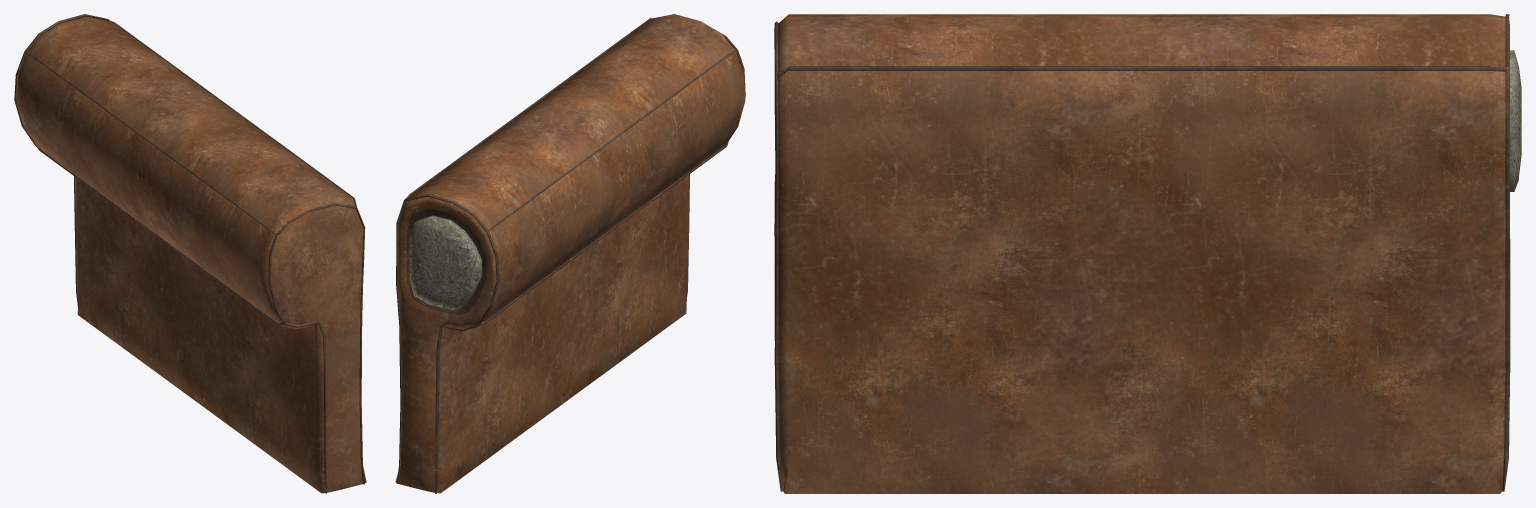
File: SeatBArmRest.fbx
3 renders of one model, left to right at view 1: azimuth 30°, elevation 25°; view 2: azimuth 150°, elevation 25°; view 3: azimuth 270°, elevation 25°, orthographic. The views are drawn at different scales.
Parts seen in each view (by area): view 1: SeatBArmRest; view 2: SeatBArmRest; view 3: SeatBArmRest.
Boxes of the visible parts, left/top/right/bottom form: SeatBArmRest: left=14, top=14, right=366, bottom=493; SeatBArmRest: left=395, top=14, right=745, bottom=493; SeatBArmRest: left=774, top=14, right=1521, bottom=493.
Bounding box in the file's own units: 21.84 × 58.7 × 91.46.
